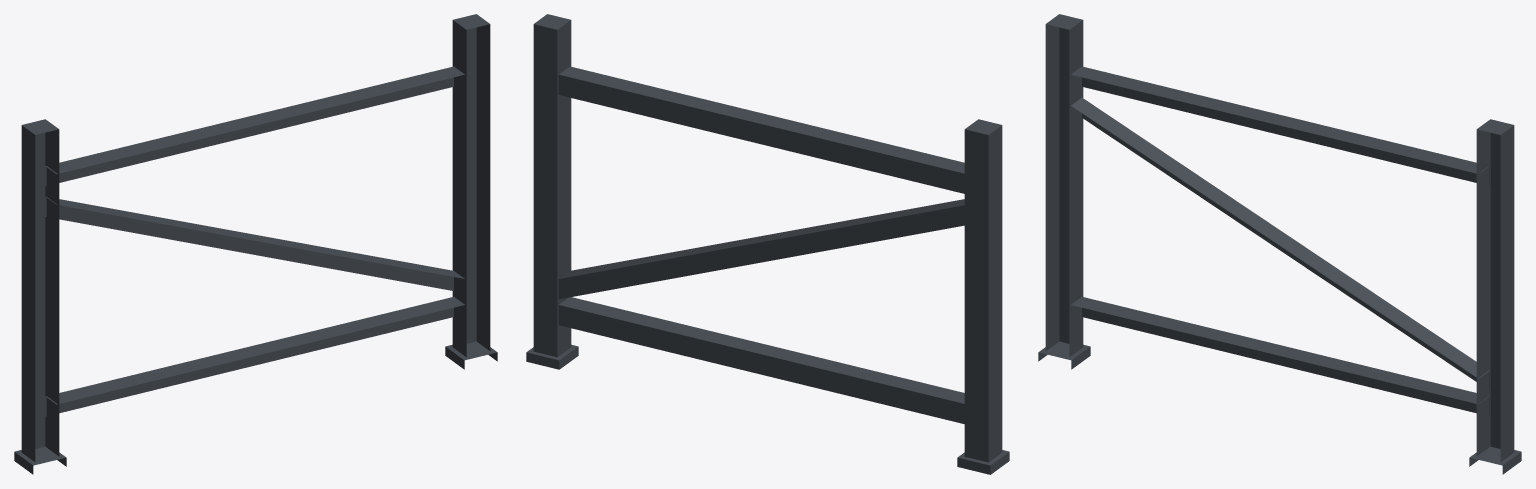
File: tent_03.fbx
3 views of the same model, side by side, from view 1: azimuth 30°, elevation 25°; view 2: azimuth 150°, elevation 25°; view 3: azimuth 330°, elevation 25° (orthographic).
Visible parts, largest first — view 1: tent_03; view 2: tent_03; view 3: tent_03.
Part boxes in pixels (x1=…): tent_03: x1=14, y1=14, x2=497, y2=474; tent_03: x1=526, y1=14, x2=1009, y2=474; tent_03: x1=1038, y1=14, x2=1521, y2=474.
Bounding box in the file's own units: 9.43 × 6.54 × 0.6725.
